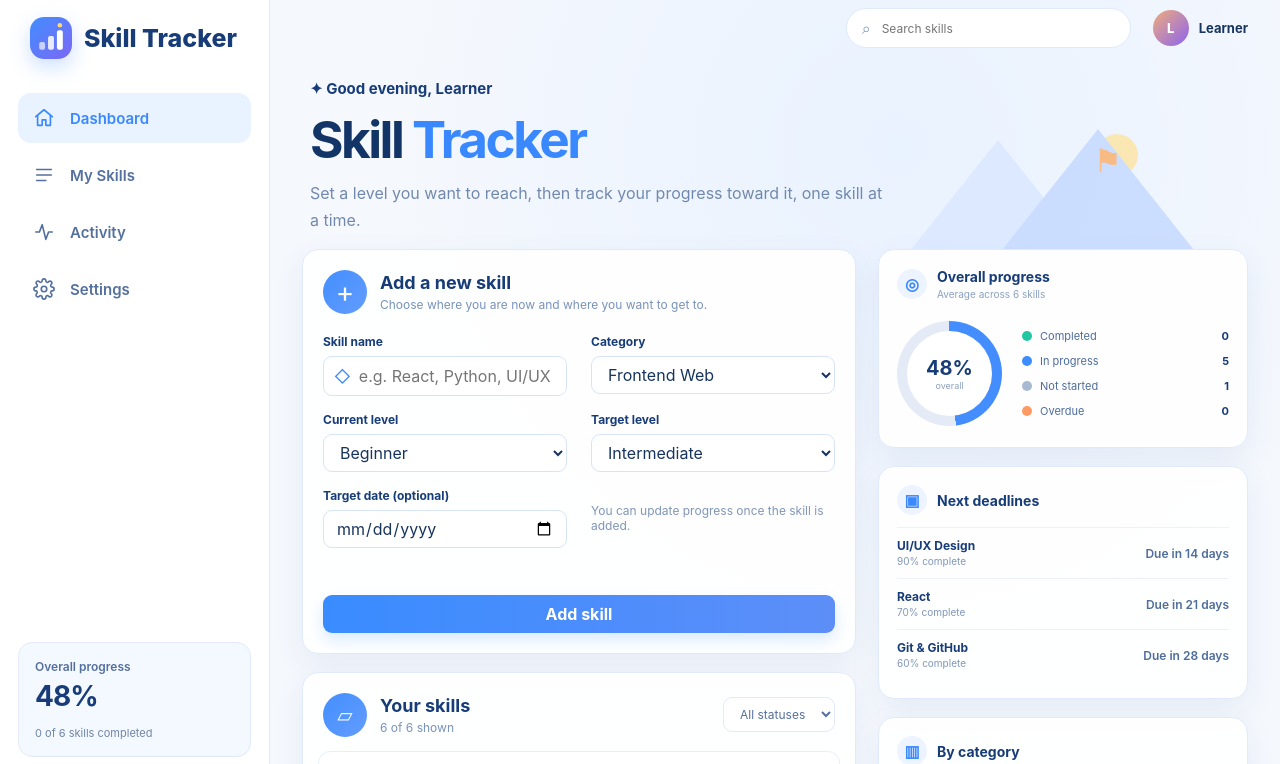
it: Skill Tracker app › deletes all data from Settings after confirming
The image size is (1280, 764).
Click the button "Settings".
click(134, 289)  # box [18,264,251,314]
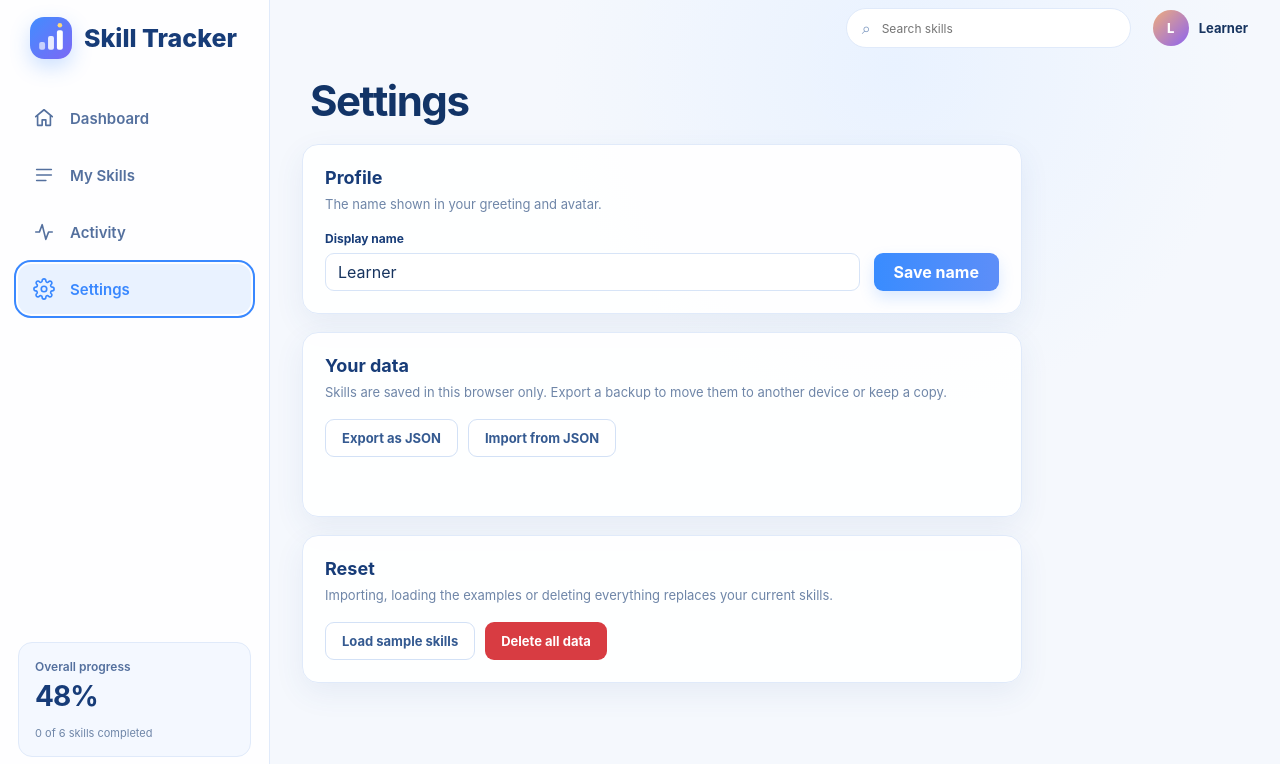
Click the button "Delete all data".
click(546, 641)  # box [485,622,607,660]
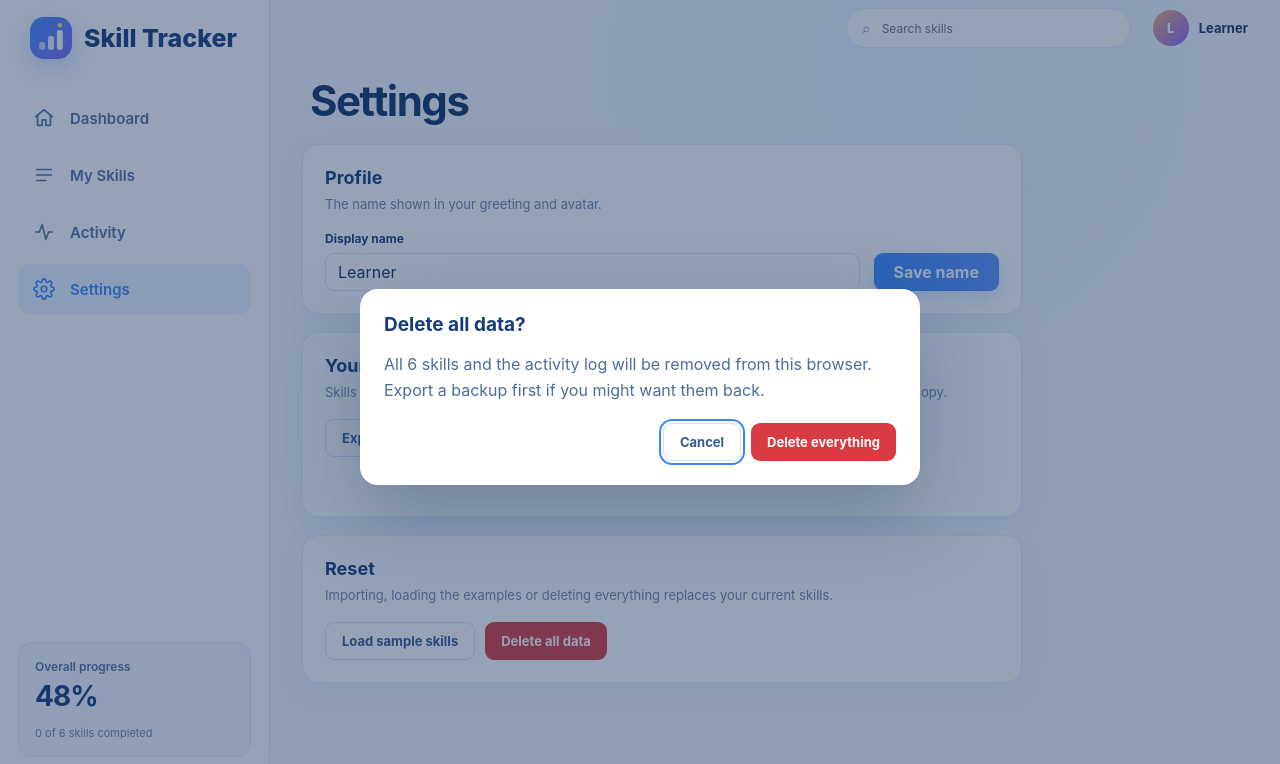
Click the button "Delete everything".
click(824, 442)  # box [751,423,896,461]
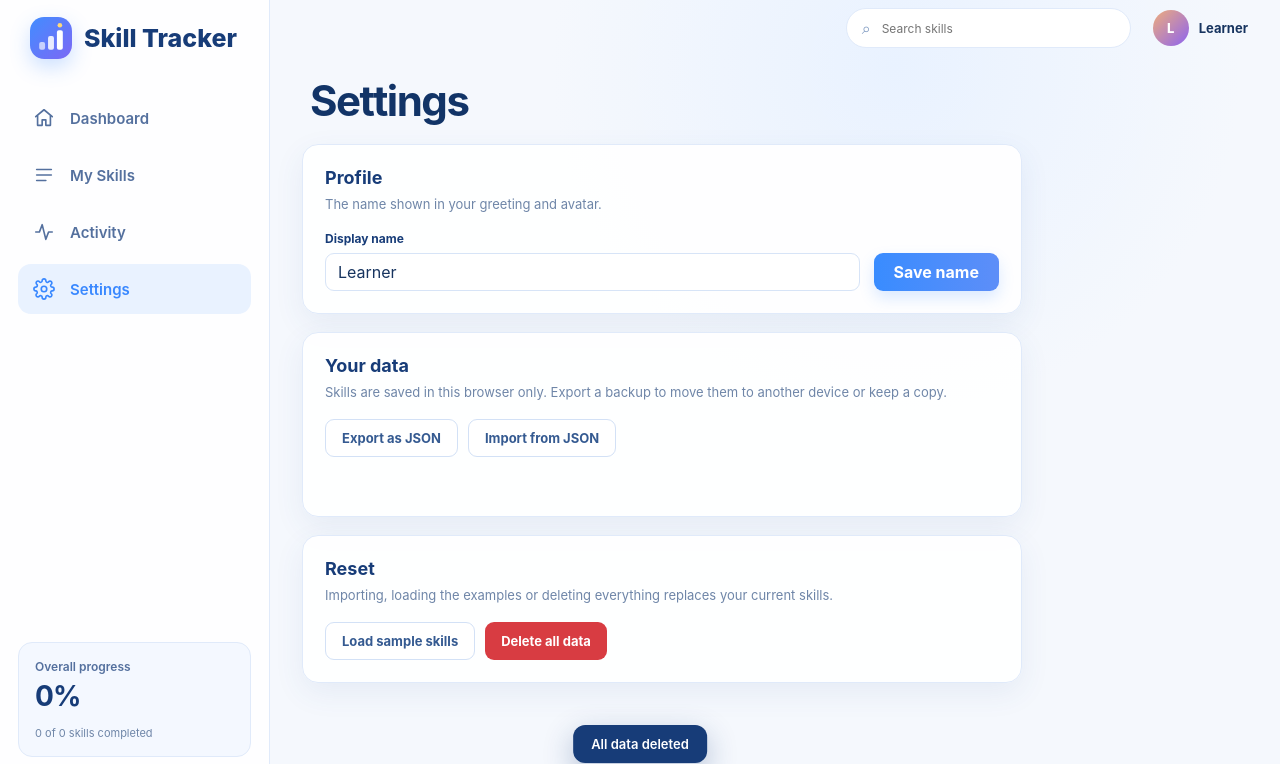
Click the button "Dashboard".
click(134, 118)  # box [18,93,251,143]
(page scrolled)
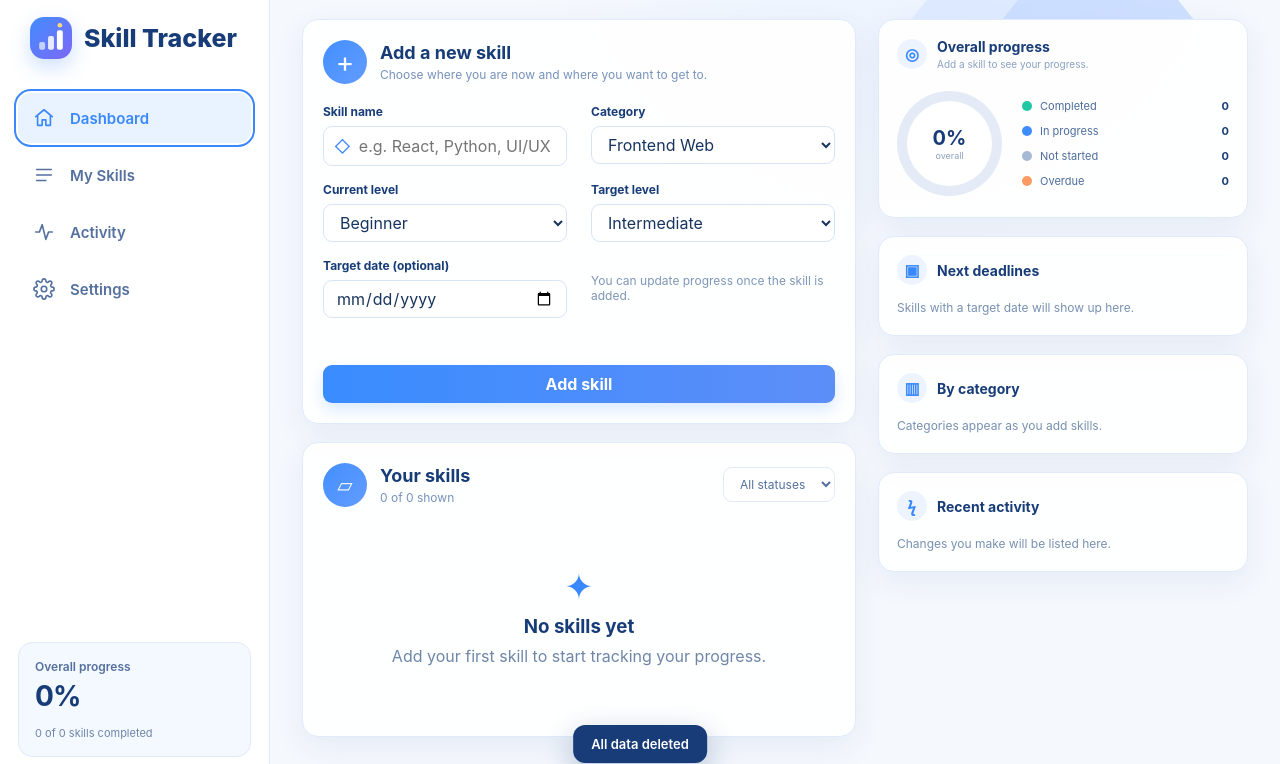
Check: the heading "No skills yet" is shown, box [524,615,634,638]
